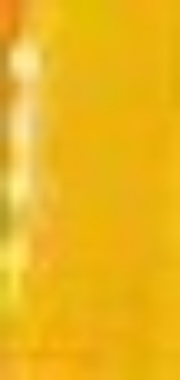Hotspot: (1, 30, 44, 324)
